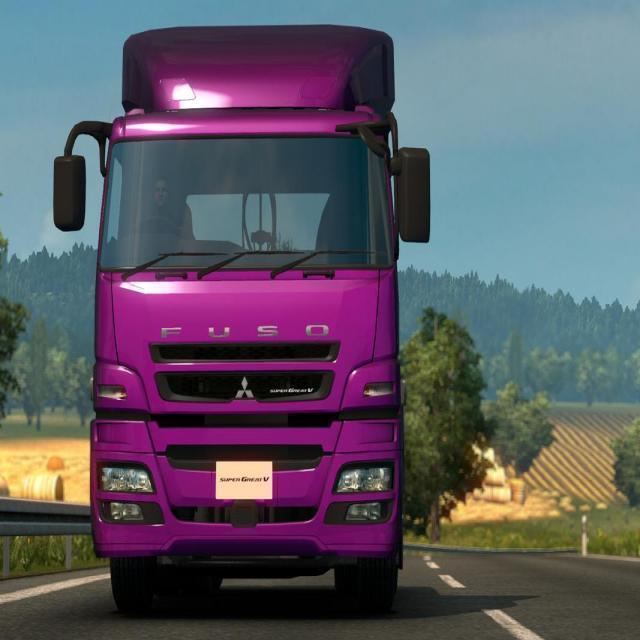truck: (52, 20, 430, 599)
